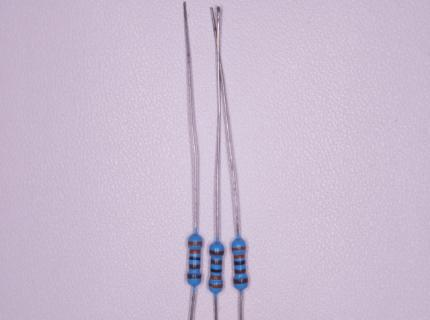Black band: (211, 268, 222, 273), (234, 260, 245, 265), (189, 257, 200, 260)
Brown band: (234, 278, 248, 284), (210, 250, 224, 255), (187, 274, 201, 279), (234, 268, 245, 274), (211, 259, 222, 264), (189, 265, 200, 269)
Orange band: (209, 282, 222, 288), (187, 241, 202, 245), (189, 249, 200, 254), (210, 275, 221, 280), (232, 247, 246, 250), (234, 254, 244, 258)
